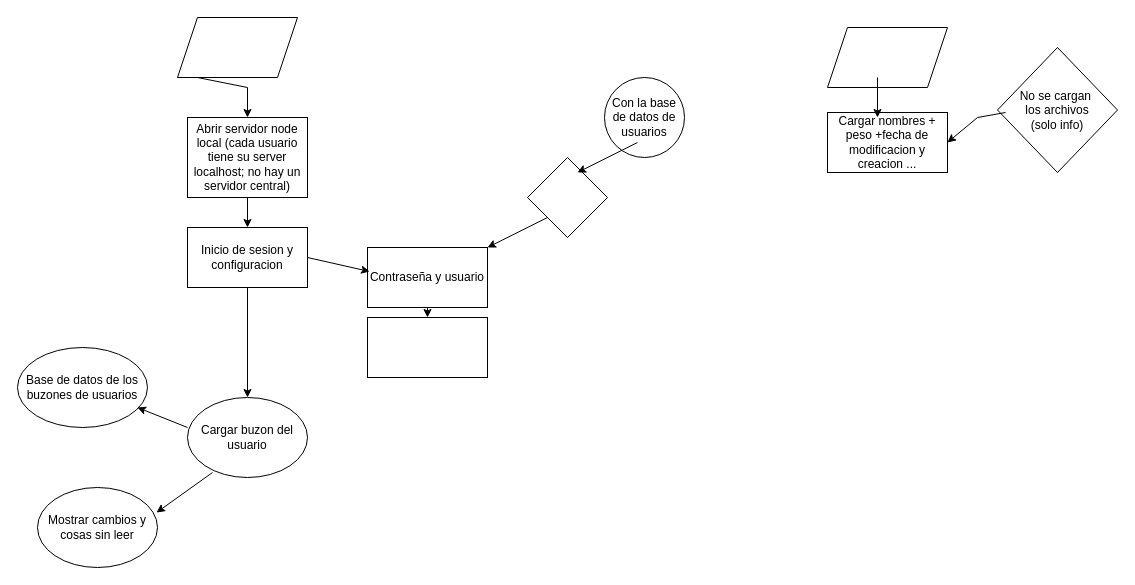
The diagram is 1135 pixels wide and 585 high, and some of its shapes have lost their labels. The shapes that lost their labels are listed below. From the top down, each one's centre as x and y in pixels, then its label:
At point 237,47: "Inicio".
At point 887,57: "Cargar datos guardados en la nube".
At point 567,197: "VALIDAR DATOS".
At point 427,347: "MAC del PC asociada al usuario".
